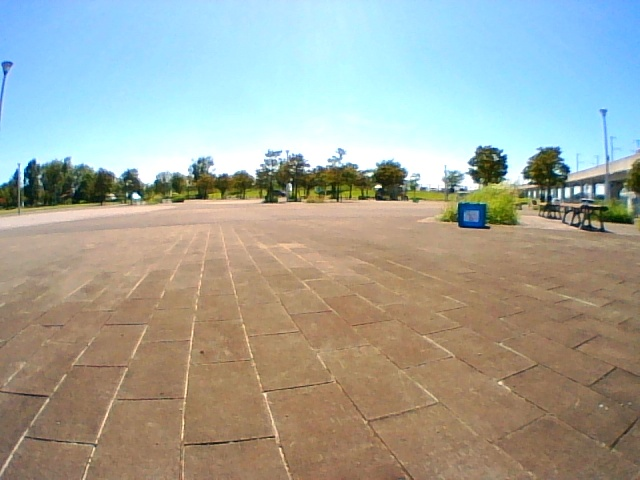blue_box: (458, 203, 486, 228)
tag: (463, 210, 479, 222)
